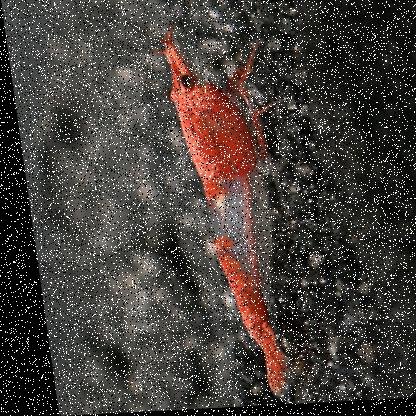shrimp: (158, 34, 318, 403)
